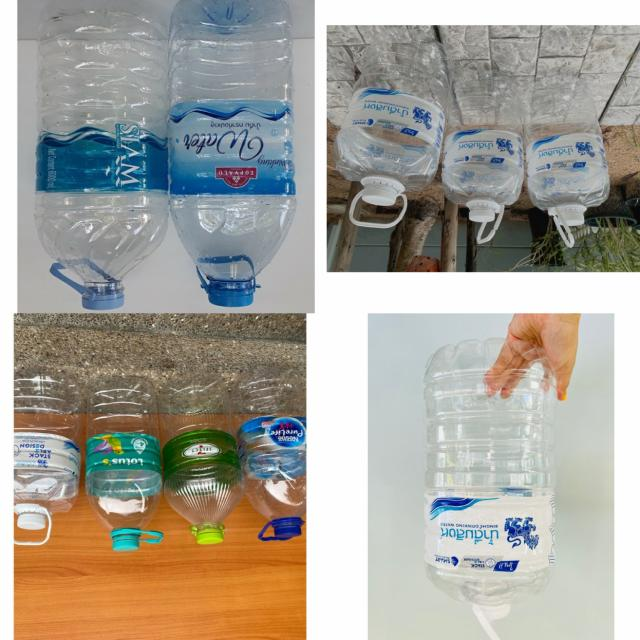plastik: (35, 0, 167, 311), (424, 338, 557, 640), (169, 0, 296, 307), (334, 28, 450, 229), (158, 372, 244, 544), (524, 78, 609, 248), (442, 68, 523, 244), (85, 377, 164, 551), (232, 369, 306, 541), (13, 372, 83, 544)
